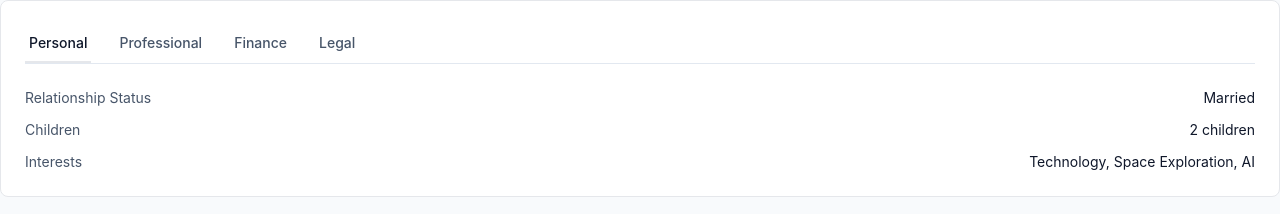
it: CategoryTabs › switches to finance tab when clicked
The width and height of the screenshot is (1280, 214).
Click the button "Finance".
click(261, 44)  # box x1=230 y1=25 x2=291 y2=63
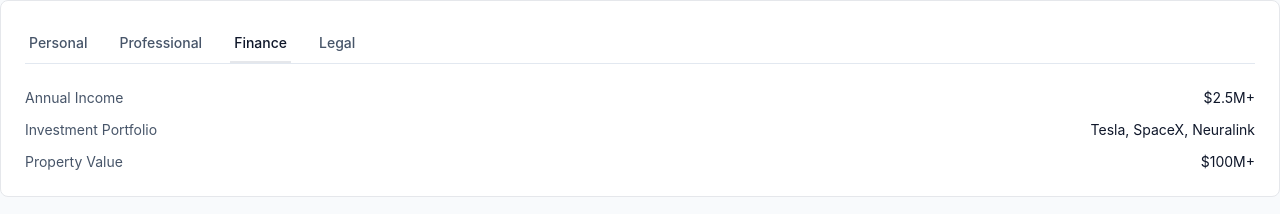
Check: the text "Annual Income" is shown, box x1=25 y1=88 x2=124 y2=108
Check: the text "$2.5M+" is shown, box x1=1203 y1=89 x2=1255 y2=106
Check: the text "Investment Portfolio" is shown, box x1=25 y1=120 x2=157 y2=140
